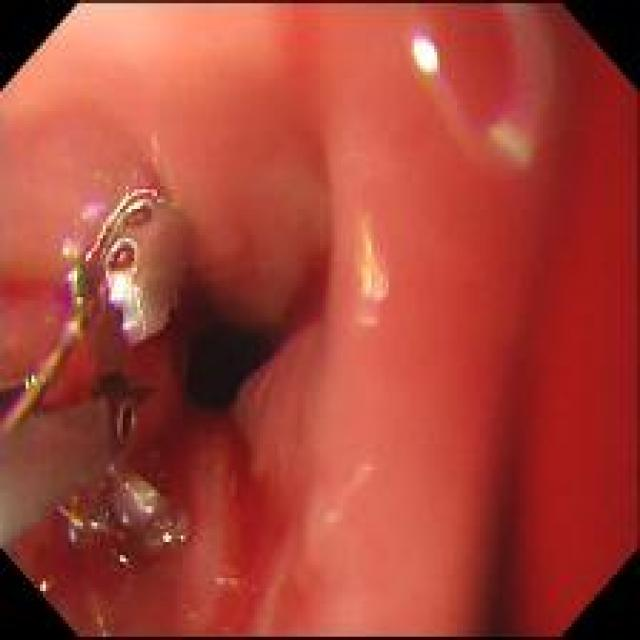color misalignment: (3, 187, 168, 425), (476, 107, 540, 178), (58, 501, 133, 548), (130, 494, 154, 513), (39, 577, 49, 594)
contrast: (184, 293, 290, 413)
instrument: (2, 189, 198, 437), (1, 374, 156, 550), (58, 460, 190, 549), (85, 309, 134, 400)
specularity: (415, 42, 438, 72), (110, 275, 126, 301), (163, 533, 173, 545), (118, 558, 129, 564)
